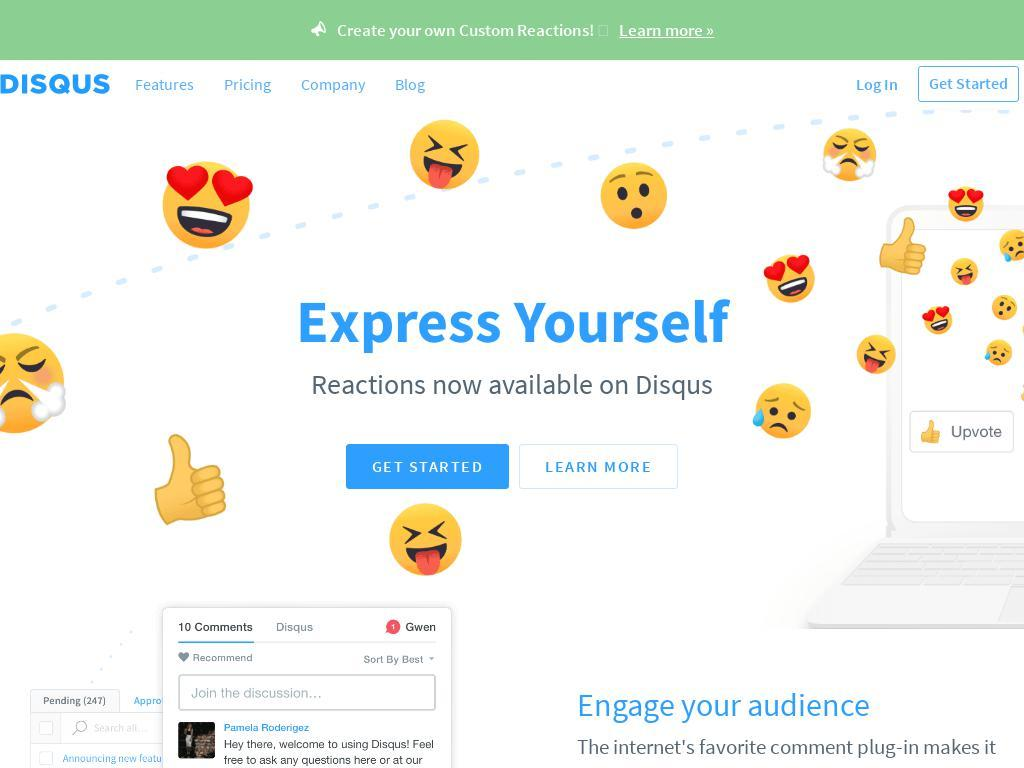button: (345, 444, 510, 489), (519, 444, 679, 489), (291, 58, 375, 109), (125, 58, 204, 109), (918, 65, 1019, 102), (214, 58, 281, 109), (846, 58, 908, 109), (385, 58, 435, 109)
heading: (577, 684, 1009, 725)
image: (30, 597, 462, 768), (0, 74, 110, 94)
link: (619, 18, 715, 41)
text: (296, 277, 728, 364), (296, 364, 728, 404), (577, 733, 996, 768), (336, 18, 609, 41), (301, 71, 365, 96), (135, 71, 194, 96), (224, 71, 271, 96), (856, 71, 898, 96), (395, 71, 425, 96)
